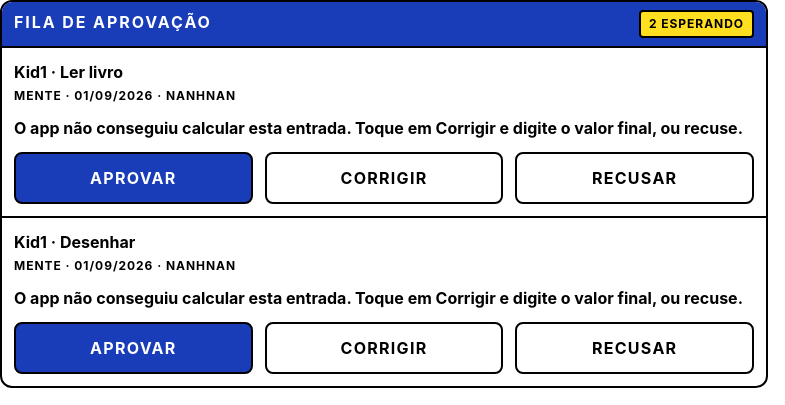
Test: the queue after a failed request (#29) › reads the queue again and redraws it when the approval failed
This screenshot has width=785, height=405.
Click the button "Aprovar" below "Ler livro". click: coordinates (133, 178)
box: [14, 152, 253, 204]
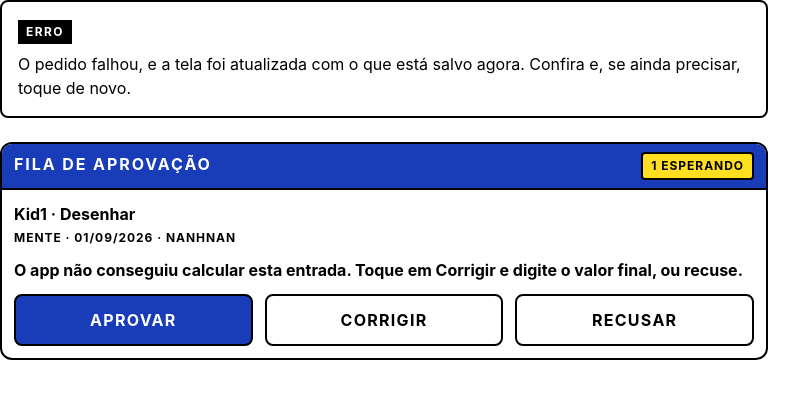
Expected: the text "Desenhar" is shown, [60, 204, 135, 224]
Expected: the text "O pedido falhou, e a tela foi atualizada com o que está salvo agora. Confira e, se ainda precisar, toque de novo." is shown, [18, 54, 741, 98]
Expected: the text "Ler livro" is gone
